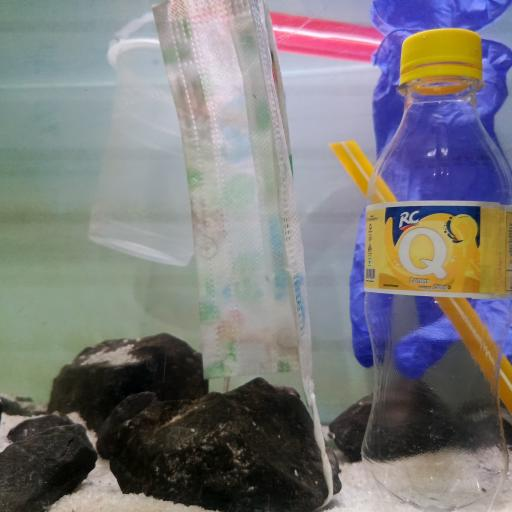bottle_cap: (395, 27, 491, 63)
glove: (351, 25, 512, 373)
mask: (148, 0, 314, 392)
plastic_bottle: (360, 25, 512, 512)
plastic_cup: (90, 39, 204, 272)
plastic_straw: (332, 140, 512, 406), (247, 8, 389, 58)
